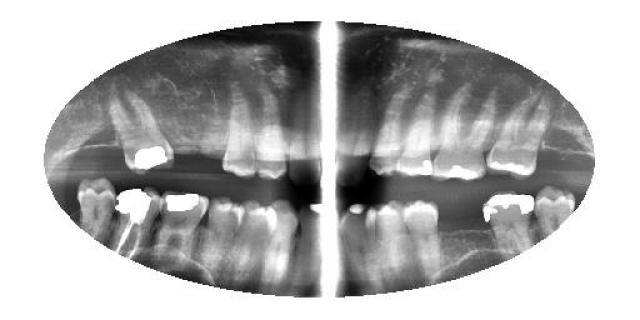Fillings: (432, 92, 496, 182), (109, 94, 176, 176), (154, 194, 208, 268), (482, 192, 536, 258), (395, 92, 436, 178)
Implant: (112, 185, 160, 257)
